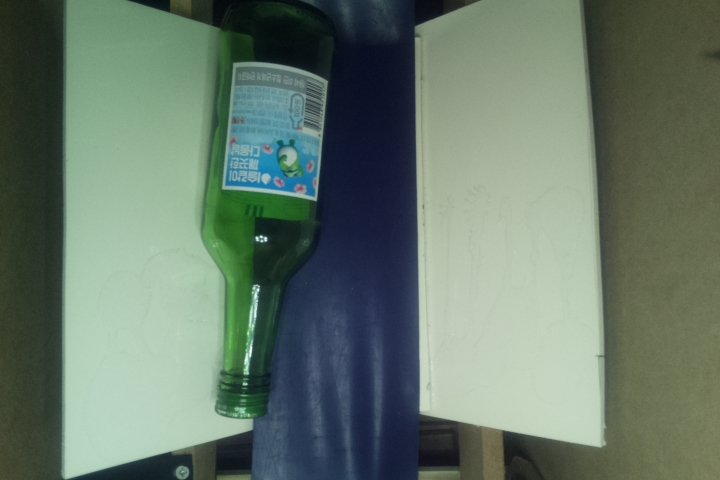soju: (200, 1, 339, 424)
